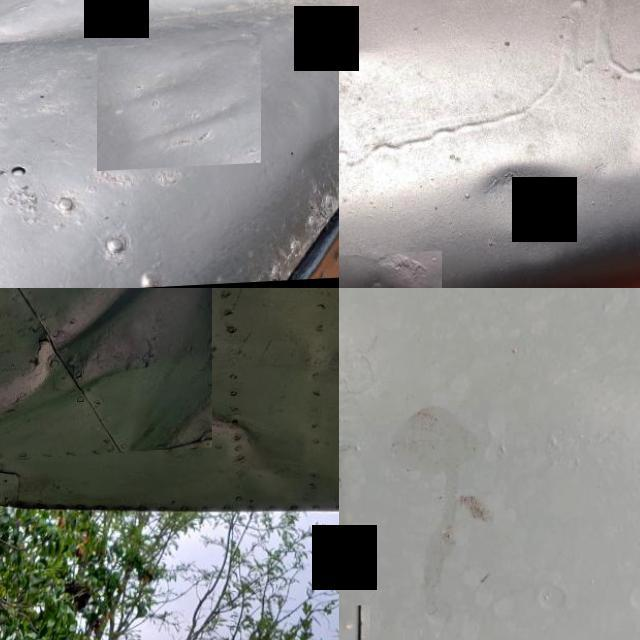Crack: (68, 336, 92, 377)
Dent: (0, 288, 212, 463), (0, 0, 339, 74), (442, 132, 596, 280), (96, 43, 262, 174), (210, 402, 339, 536), (339, 252, 441, 288)
Missing_Fastener: (339, 387, 370, 540)
